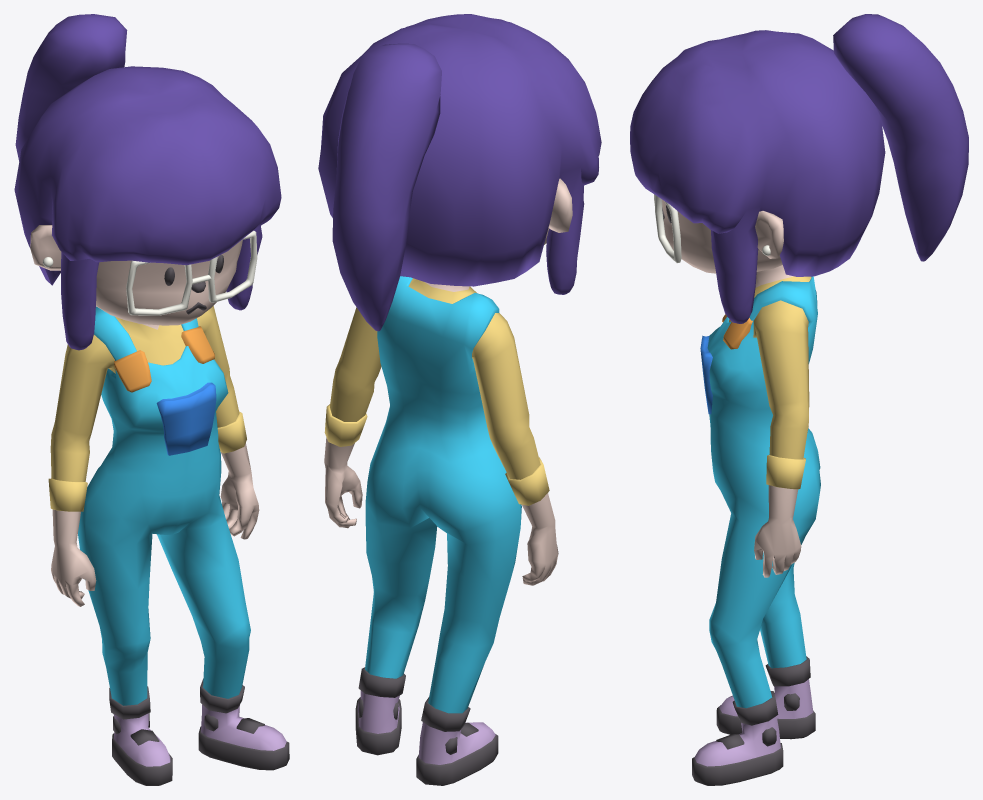
File: cartoon_girl.glb
3 views of the same model, side by side, from view 1: azimuth 30°, elevation 25°; view 2: azimuth 150°, elevation 25°; view 3: azimuth 270°, elevation 25° (orthographic). The views are drawn at different scales.
Visible parts, largest first — view 1: Object_2; view 2: Object_2; view 3: Object_2.
Boxes of the visible parts, bbox=[...] form: Object_2: bbox=[14, 14, 289, 785]; Object_2: bbox=[318, 14, 601, 785]; Object_2: bbox=[630, 14, 968, 785].
Bounding box in the file's own units: 0.571 × 1.71 × 0.7389.
1 material, 1 textured.
